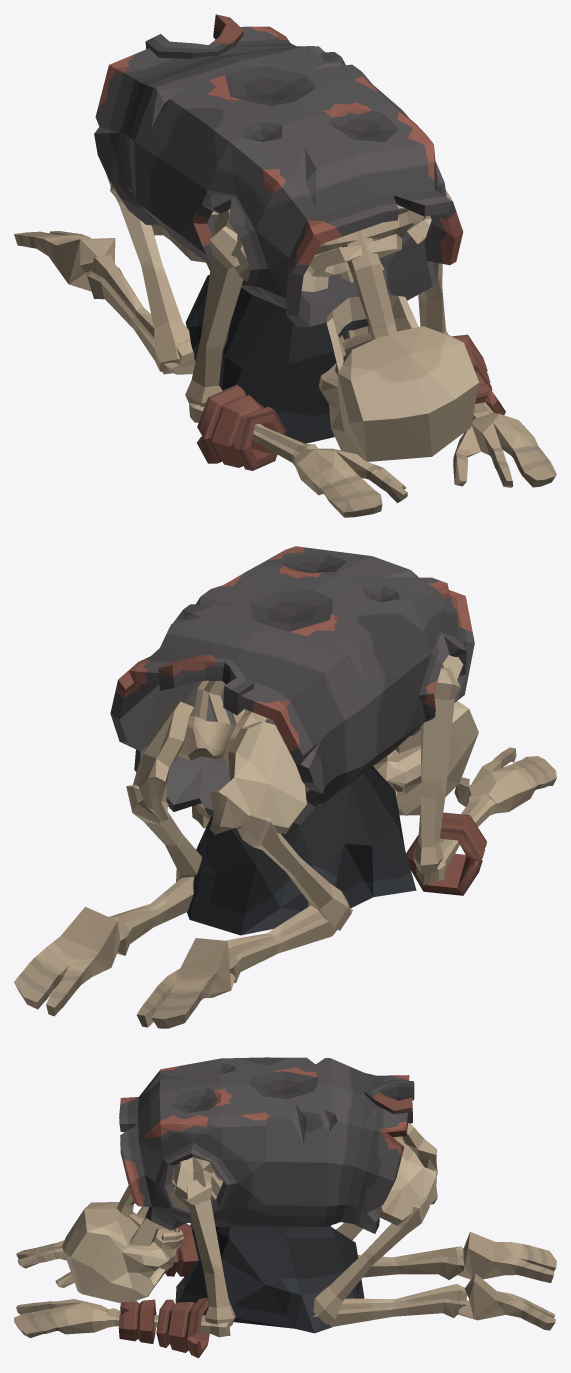
File: bog_anvil.gltf
The picture shows the model from 3 angles, top to bottom: view 1: azimuth 30°, elevation 25°; view 2: azimuth 150°, elevation 25°; view 3: azimuth 270°, elevation 25°; orthographic projection. The views are drawn at different scales.
Parts seen in each view (by area): view 1: bog_anvil; view 2: bog_anvil; view 3: bog_anvil.
Boxes of the visible parts, left/top/right/bottom form: bog_anvil: left=14, top=14, right=556, bottom=517; bog_anvil: left=14, top=546, right=556, bottom=1028; bog_anvil: left=14, top=1057, right=556, bottom=1358.
Size of the model in its own units: 0.5563 by 0.5724 by 1.25.
1 material, 1 textured.
